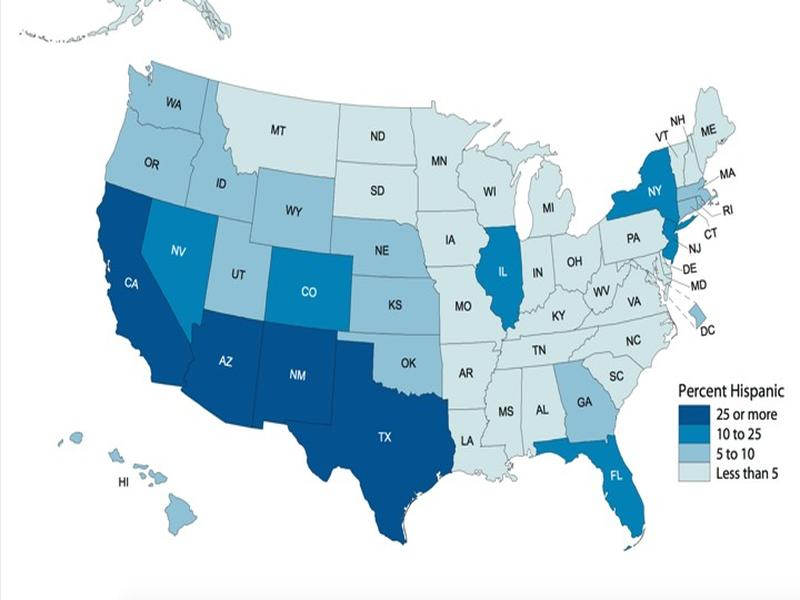legend: (675, 380, 788, 484)
